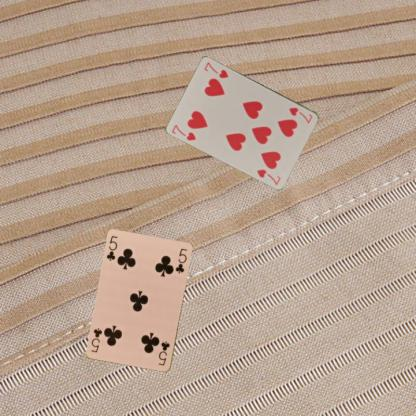5c: (104, 233, 119, 262), (156, 339, 171, 367)
7h: (286, 104, 314, 125), (169, 122, 198, 141)
